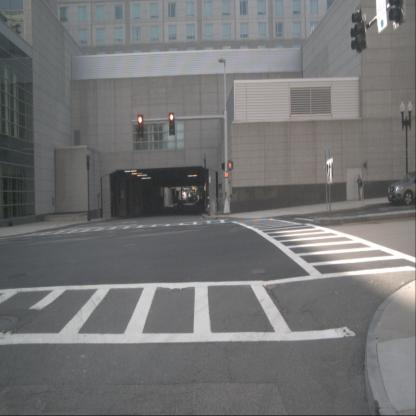human-pedestrian-adult: (357, 174, 362, 202)
vehicle-car: (387, 170, 415, 207), (176, 201, 184, 213)
